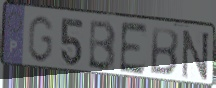5: (60, 16, 85, 69)
B: (87, 19, 118, 73), (149, 26, 181, 77)
E: (118, 20, 149, 77)
G: (26, 14, 55, 65)
N: (181, 29, 211, 81)
